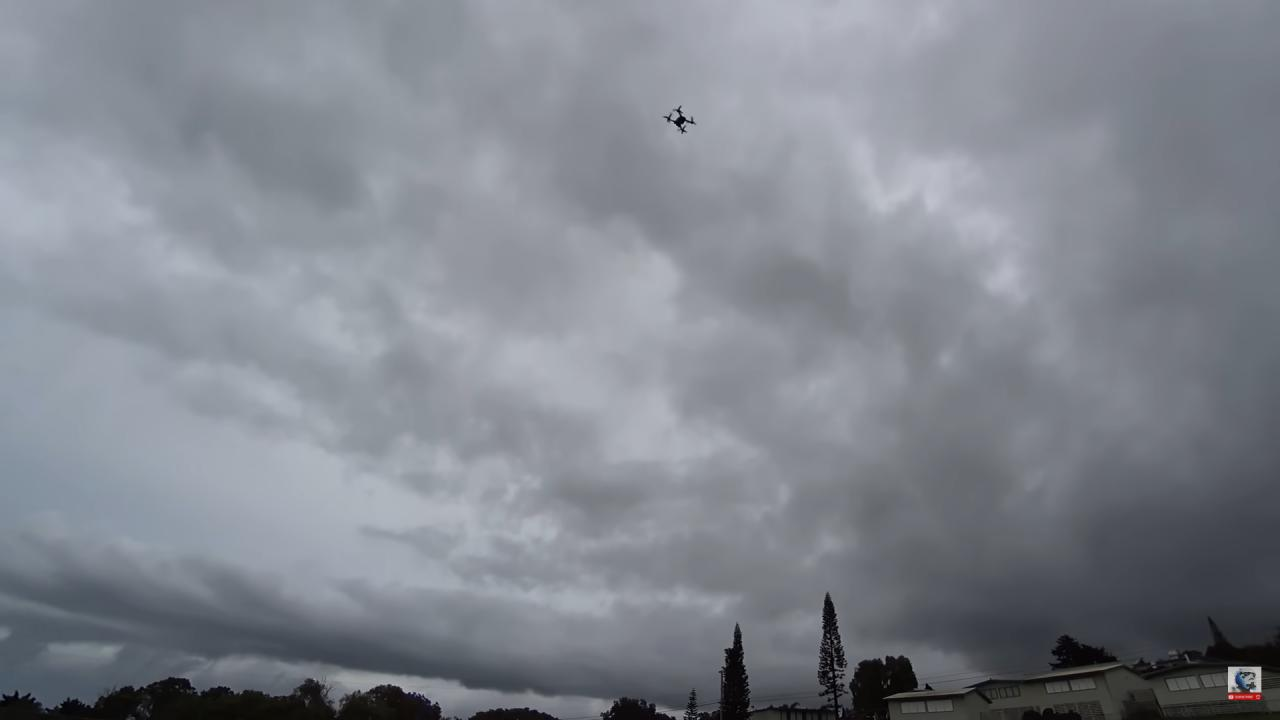Drone: (656, 102, 702, 139)
